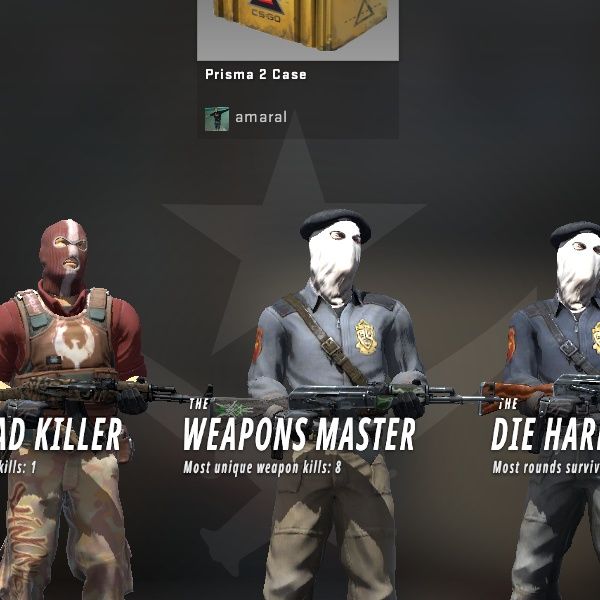t_body: (0, 192, 185, 600)
t_head: (14, 207, 111, 314)
